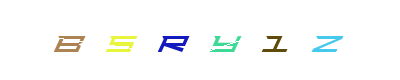1: (232, 0, 312, 80)
5: (81, 0, 161, 80)
B: (40, 0, 120, 80)
R: (133, 0, 213, 80)
Y: (160, 0, 240, 80)
Z: (234, 0, 314, 80)
